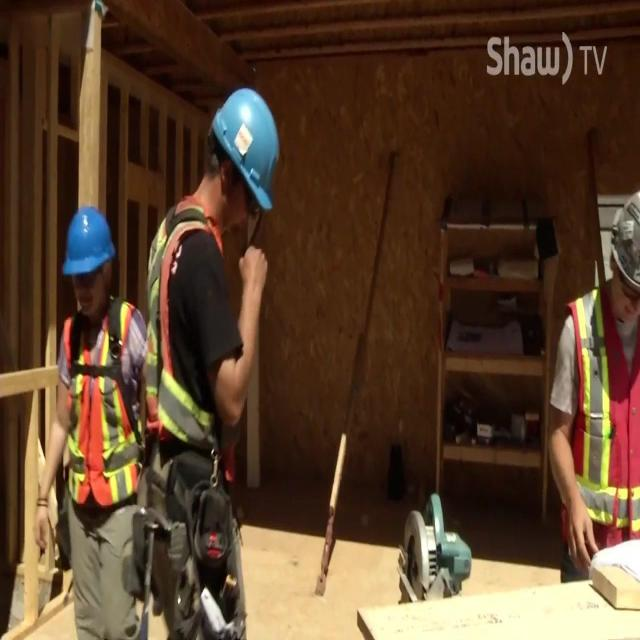Vest: (564, 282, 639, 561), (147, 188, 223, 442), (60, 296, 148, 510)
